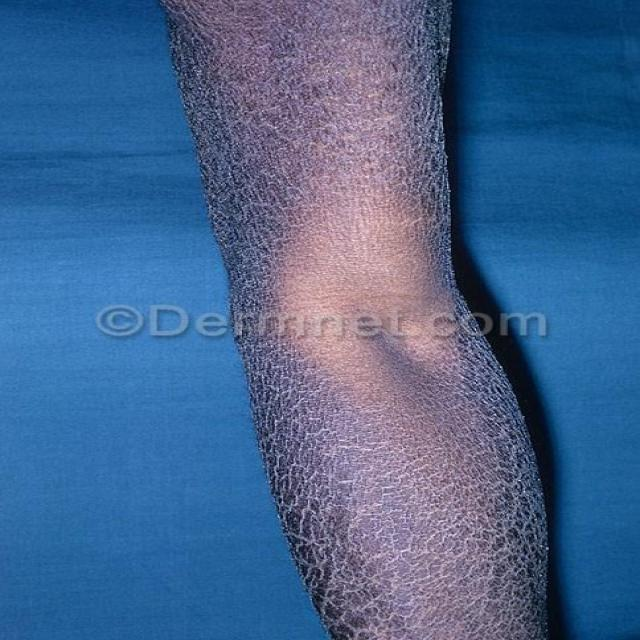liquenificacion 1: (156, 0, 560, 639)
liquenificacion 2: (156, 0, 560, 639)
liquenificacion 3: (156, 0, 560, 639)
